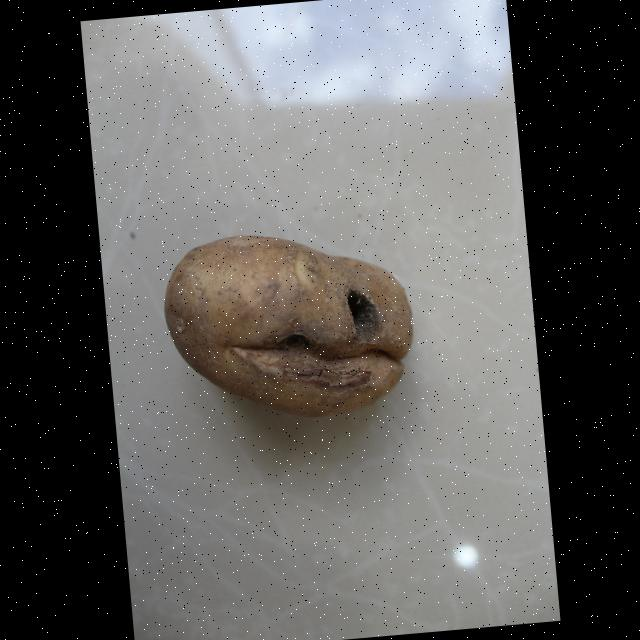Damaged potato: (158, 217, 424, 433)
